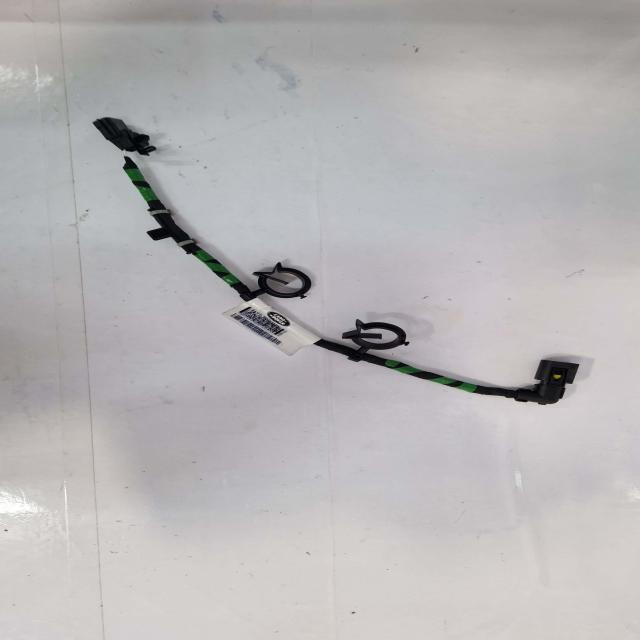AJ20_D6_Cable: (123, 161, 506, 400)
Clip: (339, 322, 404, 363), (250, 267, 308, 302)
Connector: (92, 120, 156, 159)
Info: (224, 303, 320, 360)
strap: (512, 362, 574, 406), (172, 241, 192, 249), (147, 212, 169, 218)
